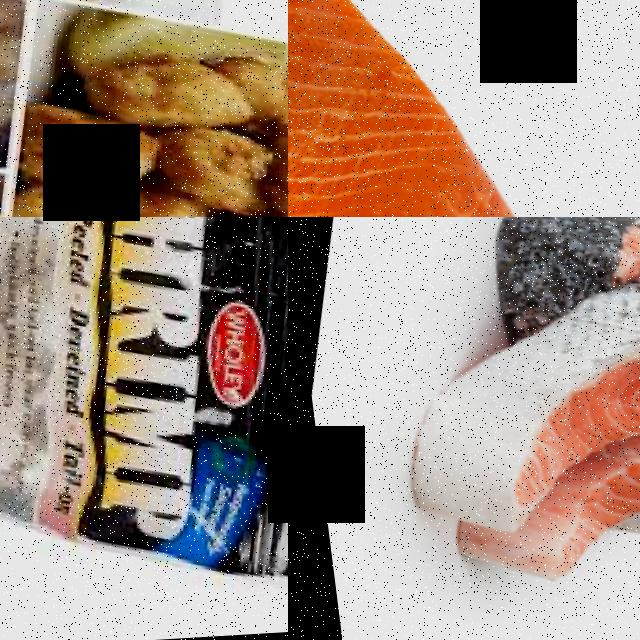salmon: (288, 0, 640, 217), (473, 241, 640, 543), (473, 217, 640, 295)
